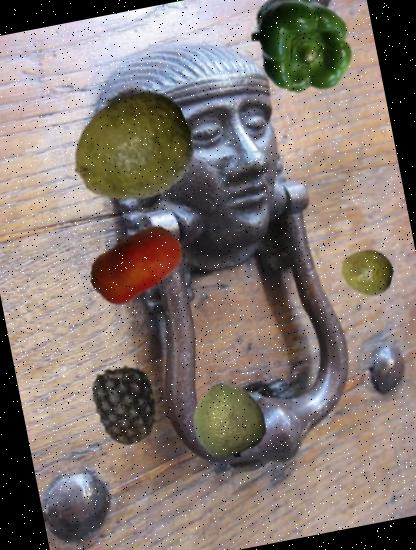Guava: (60, 77, 204, 222), (336, 241, 397, 302)
Limes: (184, 374, 274, 465)
Nectarine: (79, 206, 193, 320)
Pepper: (241, 0, 363, 102)
Pineapple: (75, 354, 176, 454)
